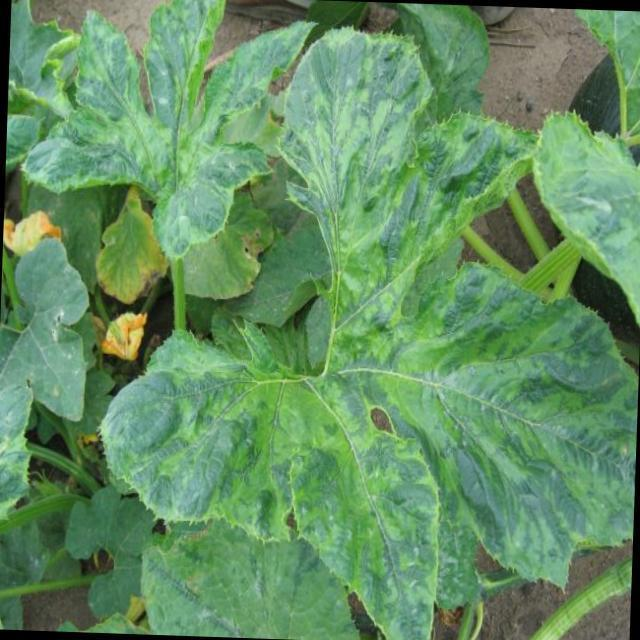Mosaic Virus: (39, 4, 292, 237), (428, 296, 640, 568), (306, 45, 526, 301), (292, 372, 422, 634), (122, 336, 273, 526)
